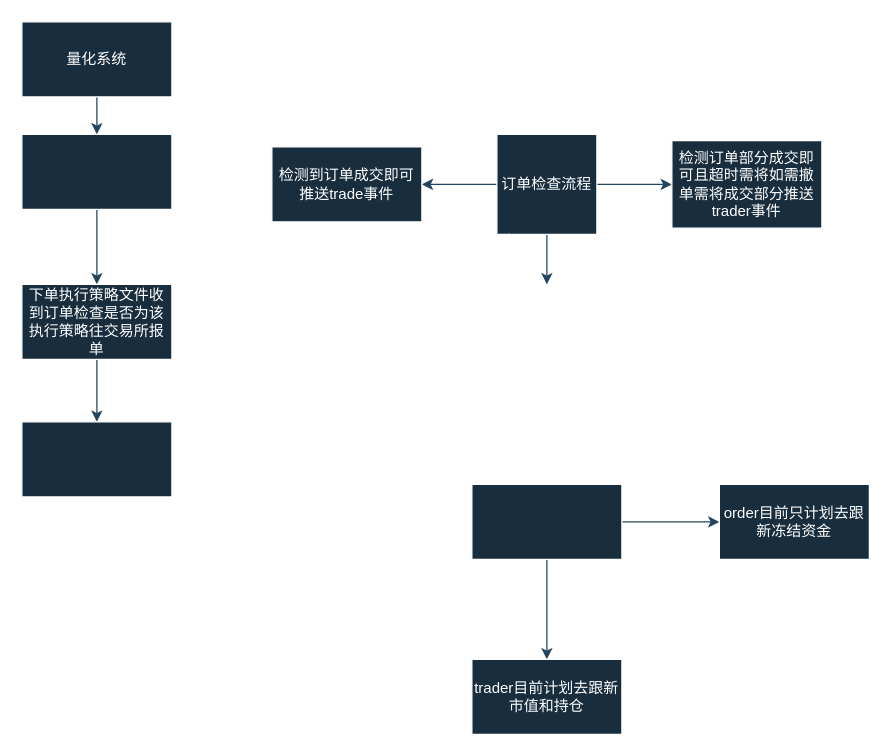
Image size: 891x756. Some labels were removed from this diagram. Here are the shapes that lost their labels. From the top down, the box of each, then its label:
(21, 133, 172, 209): trading_system收到下单推送submitting订单事件
(21, 421, 172, 497): 然后就是执行文件的核心逻辑处理该订单
(471, 483, 622, 559): 订单记录引擎
